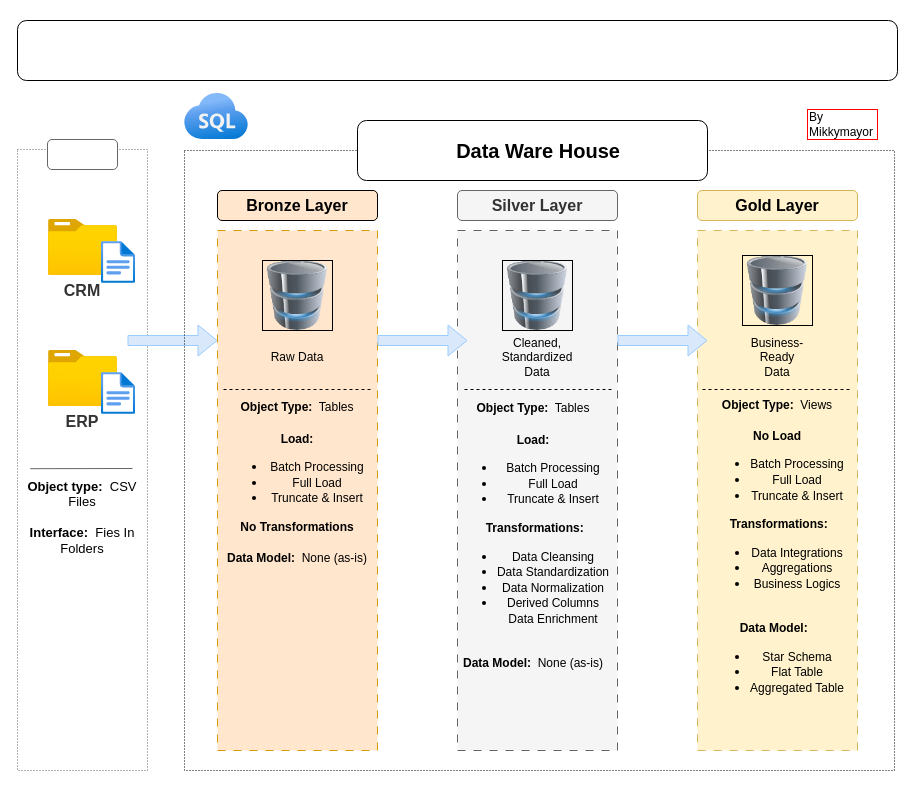
This 915x788 diagram has some shape labels left out. The shapes that lost their labels are listed below. From the top down, each one's box as (x1, y1, x2, y2) in pixels, then its label:
(16, 20, 898, 80): HIGH LEVEL DATA ARCHITECTURE
(46, 138, 118, 170): Sources
